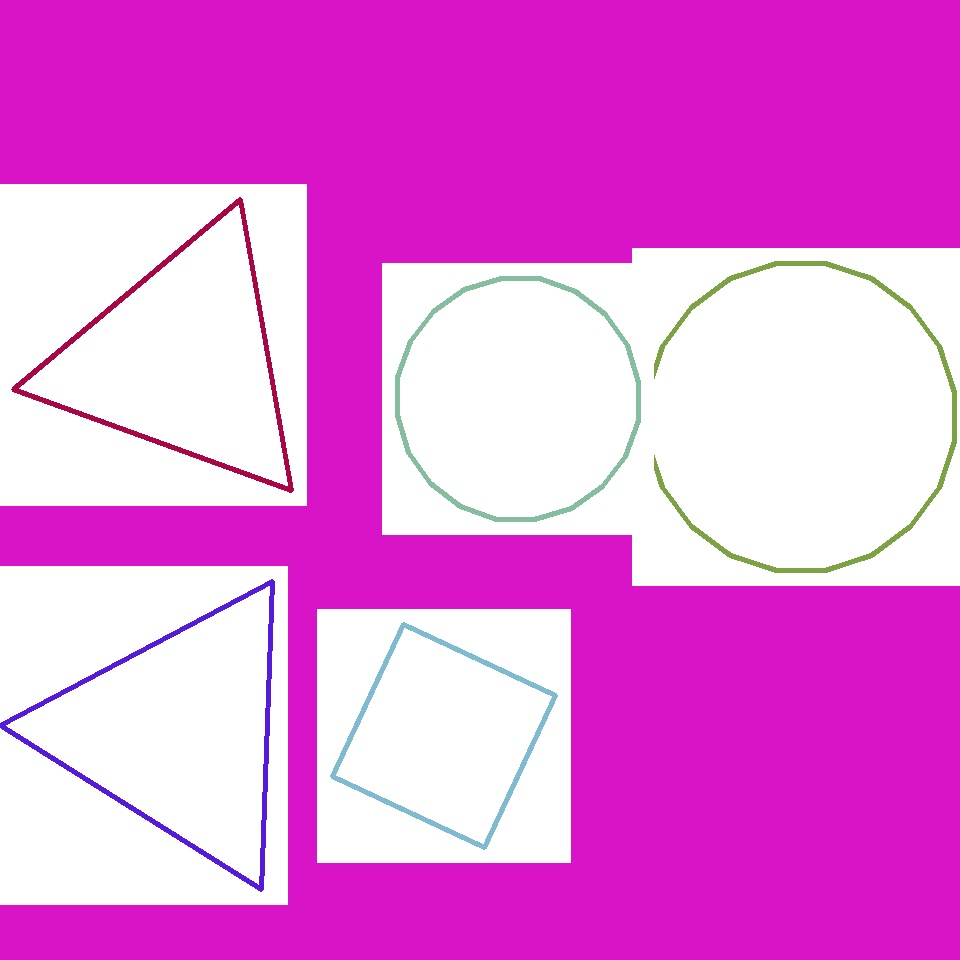circle: (42, 578, 314, 886), (43, 214, 321, 506), (631, 669, 776, 831), (531, 160, 673, 320), (624, 232, 764, 368)
square: (332, 625, 556, 848), (44, 255, 257, 468)
triangle: (648, 264, 954, 570), (398, 279, 638, 520), (687, 266, 861, 440)
